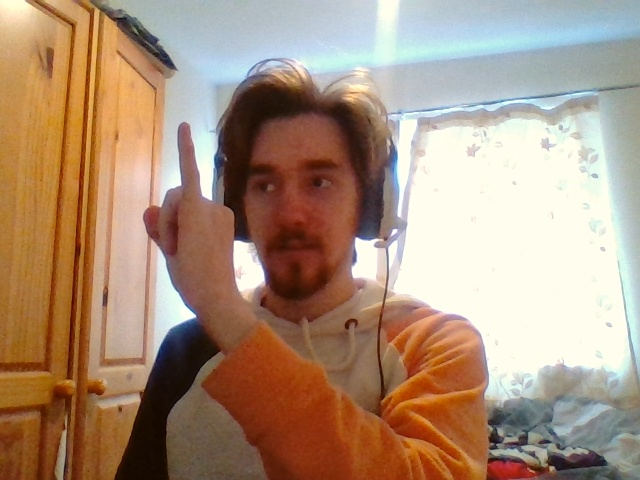bad: (144, 123, 235, 308)
